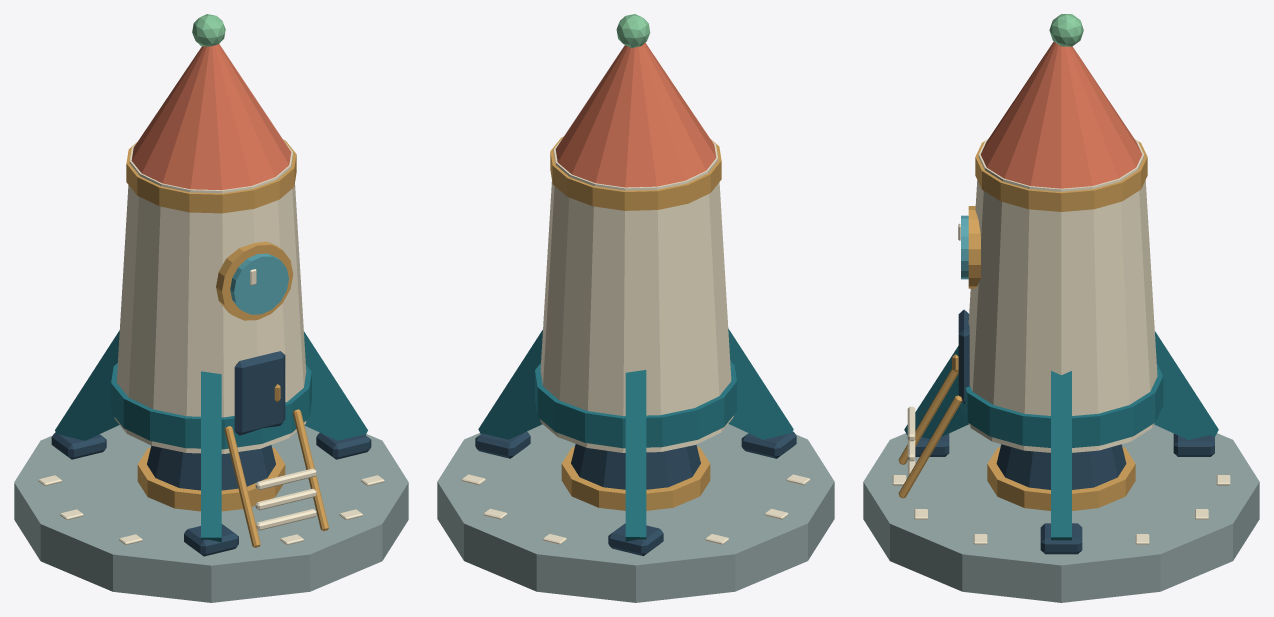
File: rocket.glb
3 renders of one model, left to right at view 1: azimuth 30°, elevation 25°; view 2: azimuth 150°, elevation 25°; view 3: azimuth 270°, elevation 25°, orthographic.
Visible parts, largest first — view 1: ivory fuselage, launch plinth, hatch, swept fin.002, swept fin.001, swept fin, lamp; view 2: ivory fuselage, launch plinth, swept fin.001, swept fin.002, swept fin, lamp; view 3: ivory fuselage, launch plinth, swept fin, swept fin.001, swept fin.002, hatch, lamp.
Part boxes in pixels (<box>): ivory fuselage: <box>111,44,311,453</box>; launch plinth: <box>14,409,408,602</box>; hatch: <box>234,351,285,435</box>; swept fin.002: <box>201,371,221,542</box>; swept fin.001: <box>55,330,119,440</box>; swept fin: <box>304,331,367,440</box>; lamp: <box>192,14,225,46</box>; ivory fuselage: <box>535,42,736,452</box>; launch plinth: <box>437,424,834,602</box>; swept fin.001: <box>625,370,646,541</box>; swept fin.002: <box>728,328,793,439</box>; swept fin: <box>478,330,542,439</box>; lamp: <box>616,14,650,47</box>; ivory fuselage: <box>958,41,1163,452</box>; launch plinth: <box>863,369,1259,602</box>; swept fin: <box>1051,371,1071,540</box>; swept fin.001: <box>1154,331,1218,439</box>; swept fin.002: <box>904,346,968,438</box>; hatch: <box>952,309,969,403</box>; lamp: <box>1049,14,1083,46</box>.
Bounding box in the file's own units: 2.3 × 3.23 × 2.3.
